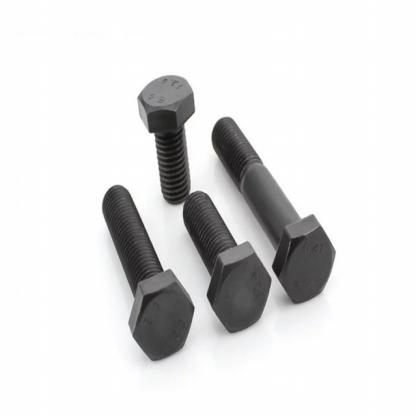FOD: (208, 113, 334, 305), (99, 181, 195, 362), (182, 189, 274, 337), (137, 70, 196, 204)
